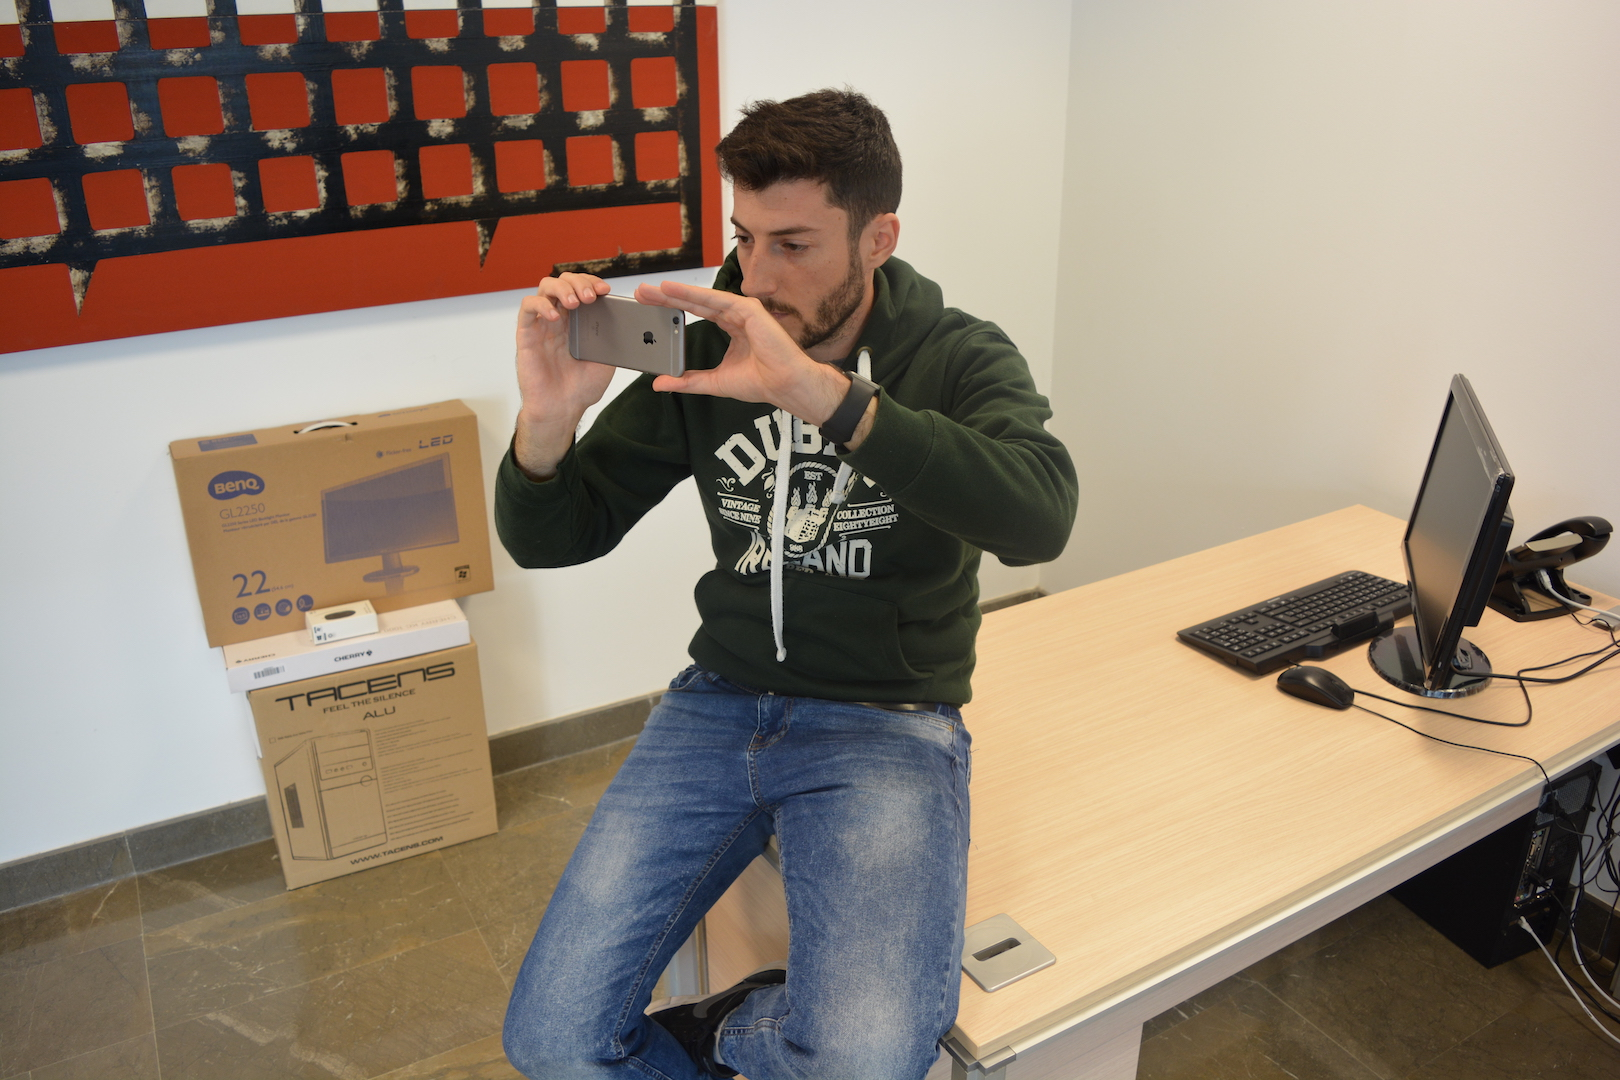smartphone: (568, 294, 687, 378)
